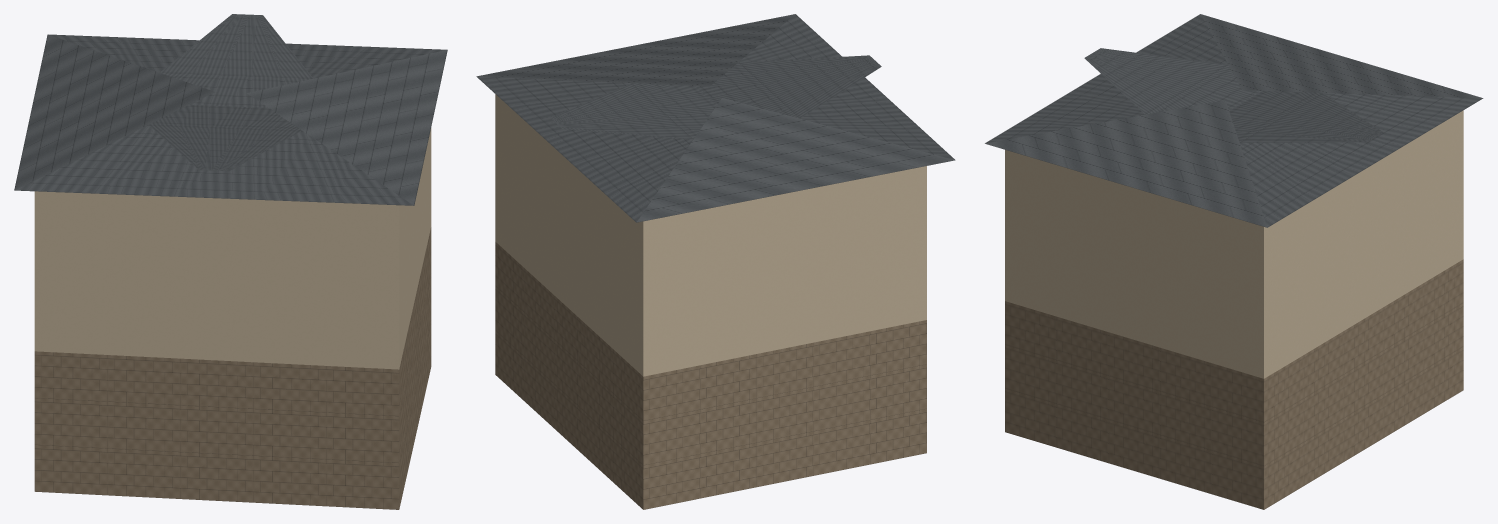
The model's file is bld_c-31_-12_656.gltf.
3 renders of one model, left to right at view 1: azimuth 30°, elevation 25°; view 2: azimuth 150°, elevation 25°; view 3: azimuth 270°, elevation 25°, orthographic. The views are drawn at different scales.
Visible parts, largest first — view 1: bld_c-31_-12_656; view 2: bld_c-31_-12_656; view 3: bld_c-31_-12_656.
Boxes of the visible parts, box(x1,y1,x2,y2) form: bld_c-31_-12_656: box(14, 14, 447, 509); bld_c-31_-12_656: box(476, 14, 955, 509); bld_c-31_-12_656: box(985, 14, 1483, 509).
Bounding box in the file's own units: 17.84 × 12.3 × 17.6.
3 materials, 3 textured.
